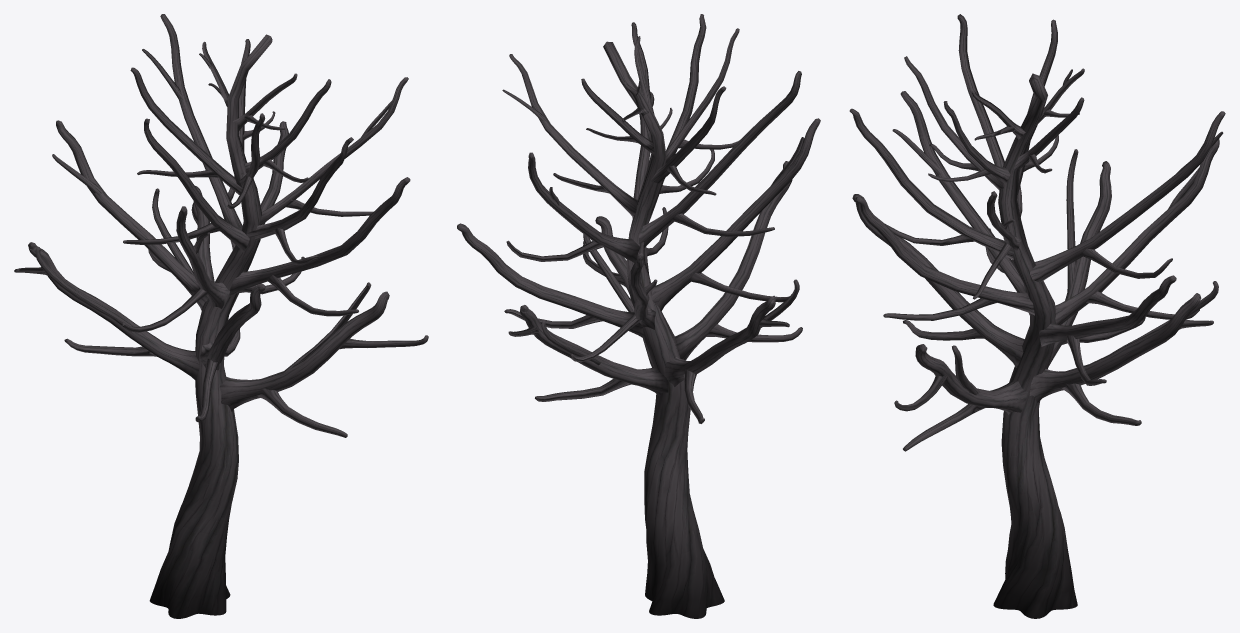
The model's file is dead1.glb.
3 views of the same model, side by side, from view 1: azimuth 30°, elevation 25°; view 2: azimuth 150°, elevation 25°; view 3: azimuth 270°, elevation 25° (orthographic). The views are drawn at different scales.
Parts seen in each view (by area): view 1: DeadTree_1; view 2: DeadTree_1; view 3: DeadTree_1.
Part boxes in pixels (x1,y1,x2,y2): DeadTree_1: (14,14,428,618); DeadTree_1: (457,14,820,618); DeadTree_1: (849,14,1225,618).
Size of the model in its own units: 5.23 by 8.07 by 4.89.
1 material, 1 textured.
